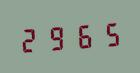five: (96, 18, 121, 49)
nine: (44, 21, 69, 52)
six: (70, 19, 95, 51)
two: (18, 23, 43, 54)
